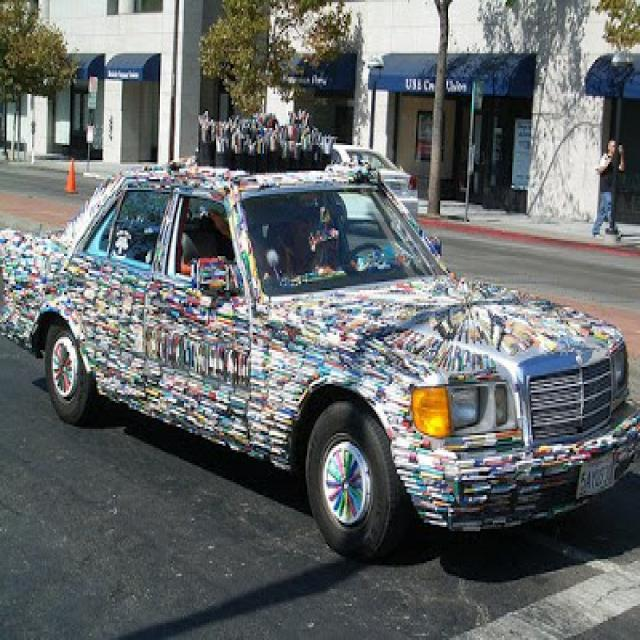Car: (4, 146, 640, 567)
